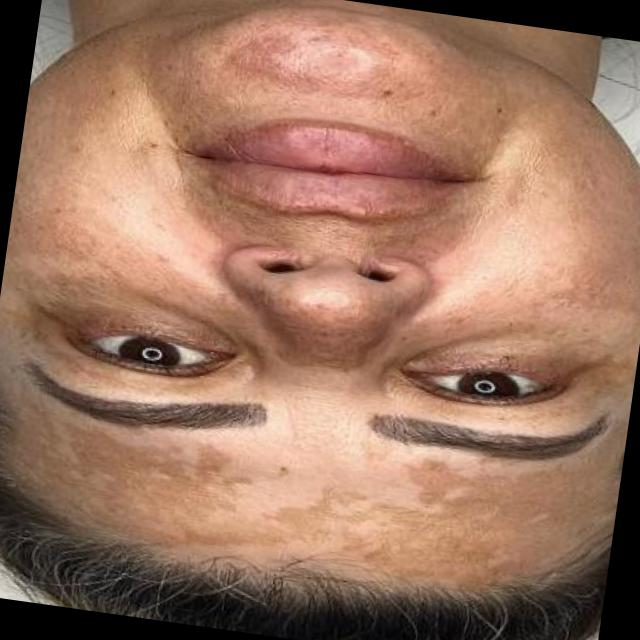melasma: (5, 386, 623, 594), (0, 127, 228, 336), (204, 257, 432, 374), (534, 93, 640, 319)
